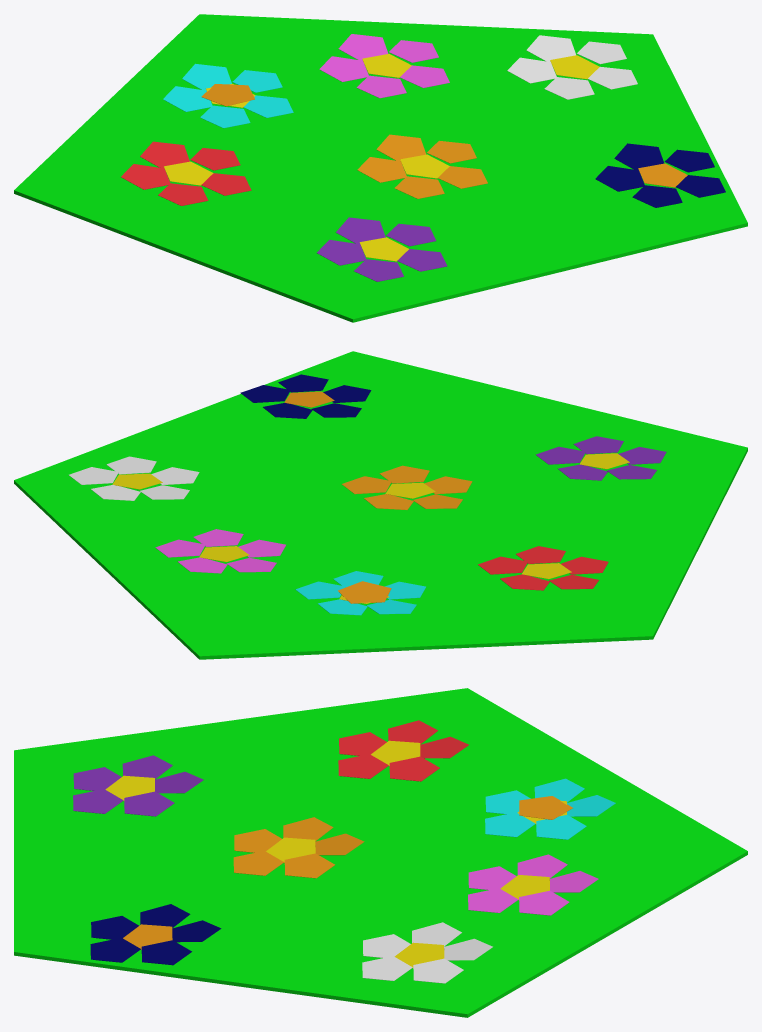
File: Figuras05.glb
3 renders of one model, top to bottom at view 1: azimuth 30°, elevation 25°; view 2: azimuth 150°, elevation 25°; view 3: azimuth 270°, elevation 25°, orthographic. The views are drawn at different scales.
Parts seen in each view (by area): view 1: Cylinder.005, Cylinder.068, Cylinder.080, Cylinder.083, Cylinder.081, Cylinder.082, Cylinder.078, Cylinder.079, Pentagono; view 2: Cylinder.005, Cylinder.083, Cylinder.078, Cylinder.080, Cylinder.068, Cylinder.082, Cylinder.081, Cylinder.079, Pentagono; view 3: Cylinder.005, Cylinder.081, Cylinder.068, Cylinder.083, Cylinder.082, Cylinder.078, Cylinder.080, Cylinder.079, Pentagono.
Part boxes in pixels (box(x1,y1,x2,y2)): Cylinder.005: box(14, 14, 747, 322); Cylinder.068: box(319, 34, 449, 98); Cylinder.080: box(595, 143, 725, 207); Cylinder.083: box(317, 217, 447, 281); Cylinder.081: box(357, 134, 487, 198); Cylinder.082: box(121, 141, 251, 205); Cylinder.078: box(507, 35, 637, 99); Cylinder.079: box(163, 63, 293, 128); Pentagono: box(201, 84, 254, 106); Cylinder.005: box(14, 351, 747, 659); Cylinder.083: box(536, 436, 666, 480); Cylinder.078: box(69, 456, 199, 500); Cylinder.080: box(240, 374, 371, 418); Cylinder.068: box(155, 529, 285, 573); Cylinder.082: box(478, 546, 608, 590); Cylinder.081: box(341, 465, 472, 509); Cylinder.079: box(295, 571, 425, 615); Pentagono: box(338, 581, 391, 603); Cylinder.005: box(14, 688, 747, 1017); Cylinder.081: box(233, 817, 364, 878); Cylinder.068: box(468, 854, 598, 915); Cylinder.083: box(73, 755, 203, 816); Cylinder.082: box(338, 720, 468, 781); Cylinder.078: box(362, 922, 492, 983); Cylinder.080: box(90, 904, 221, 965); Cylinder.079: box(485, 778, 615, 839); Pentagono: box(519, 796, 572, 819).
Bounding box in the file's own units: 7.26 × 0.2005 × 6.9.
